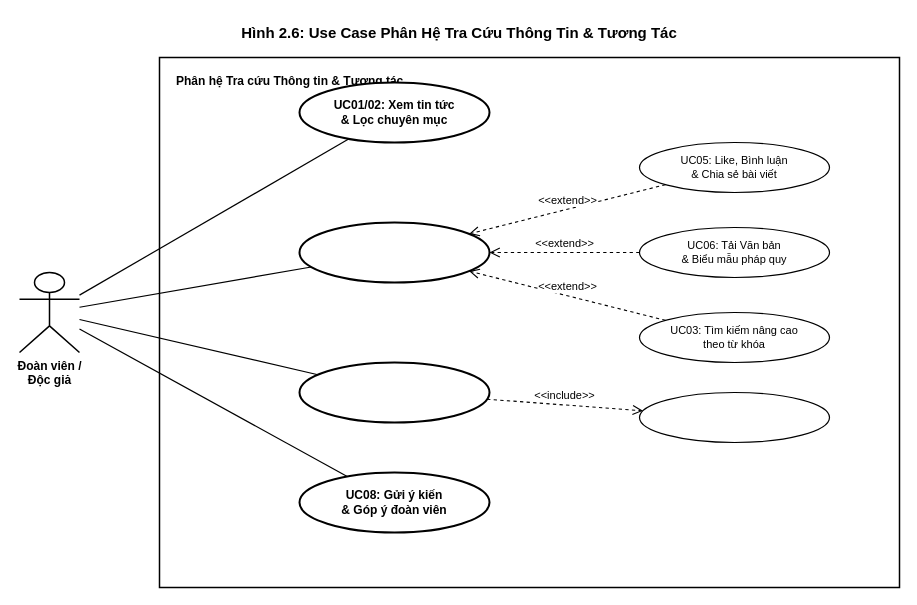
The diagram is 917 pixels wide and 605 high, and some of its shapes have lost their labels. Each missing label, with the box of its shape:
UC04: Xem chi tiết bài viết & Media: (298, 221, 490, 283)
UC07: Gửi đơn trợ cấp khó khăn: (298, 361, 490, 423)
Đính kèm minh chứng hoàn cảnh gia đình: (638, 391, 830, 443)
